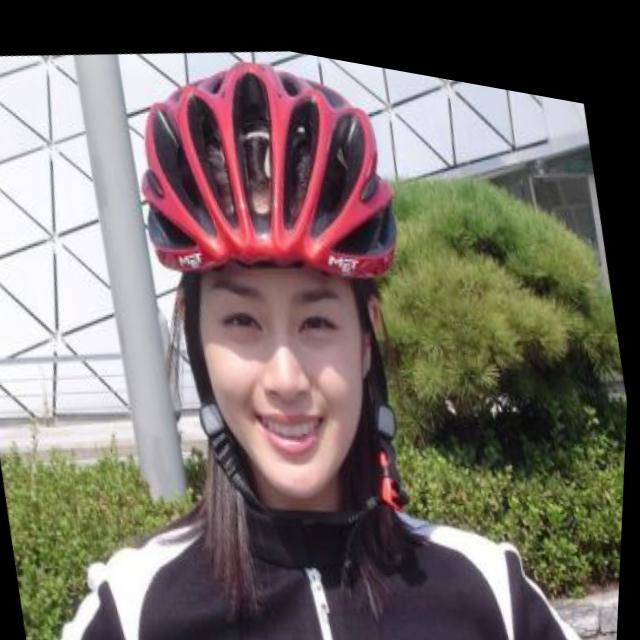Helmet: (138, 60, 399, 497)
